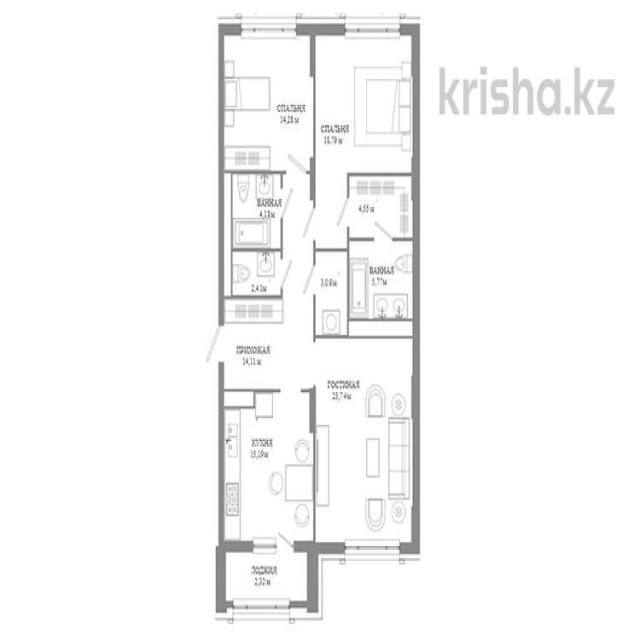balcony: (222, 549, 314, 606)
bathroom: (348, 239, 417, 322), (221, 176, 281, 247), (219, 250, 281, 294)
hallway: (221, 314, 316, 387)
kitchen: (222, 390, 313, 545)
living_room: (318, 338, 410, 542), (316, 26, 416, 173), (220, 27, 312, 170)
other: (348, 180, 420, 230), (318, 248, 347, 334)
